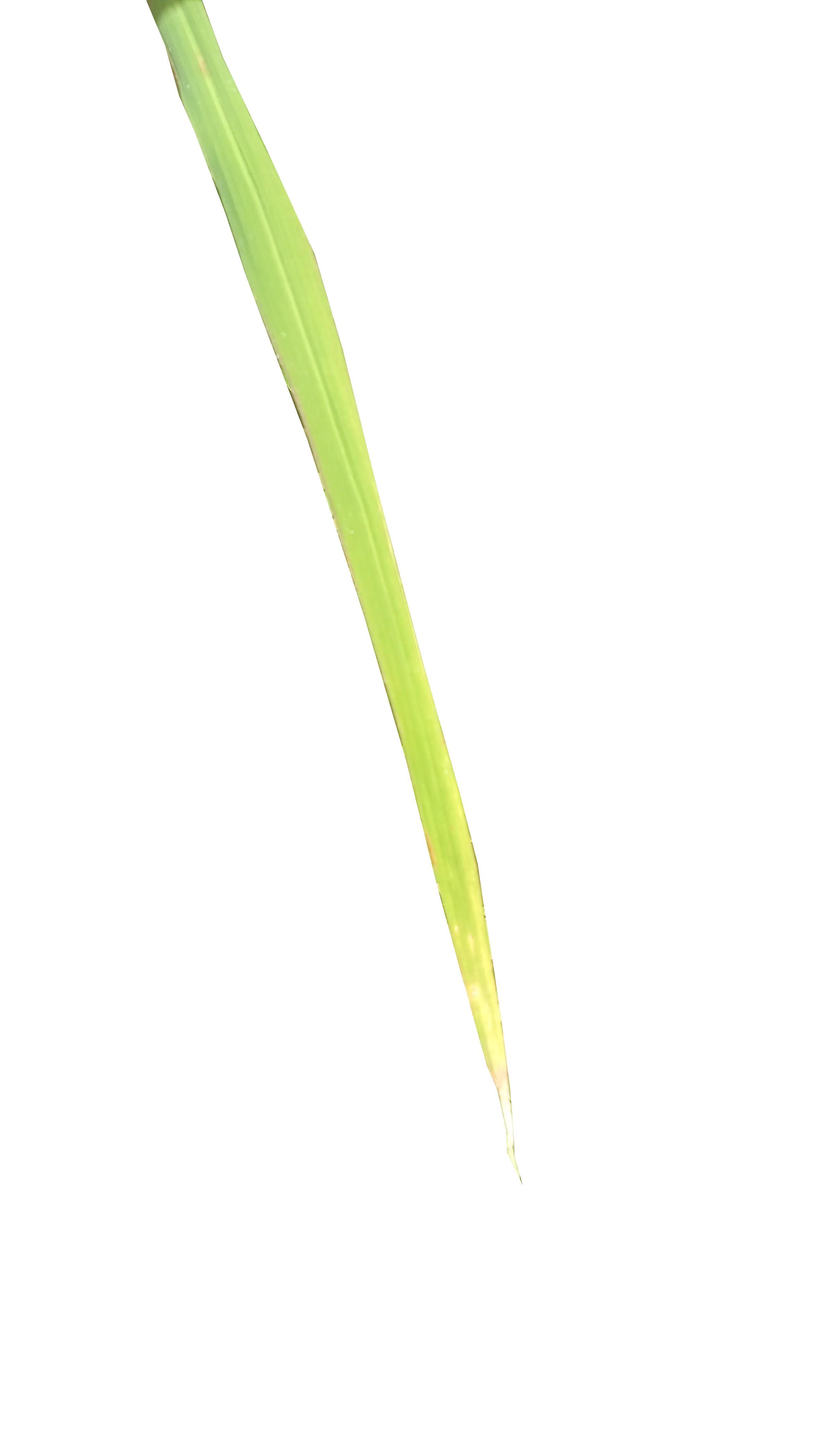Tungro: (143, 0, 525, 1180)
